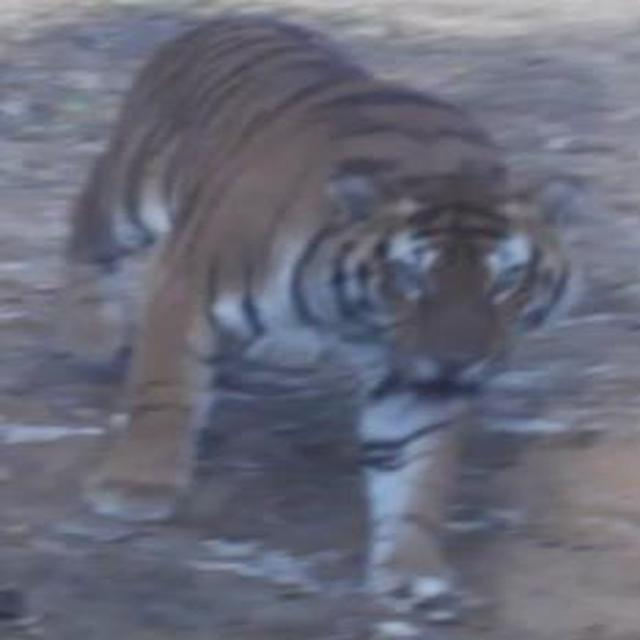tiger: (61, 9, 581, 633)
